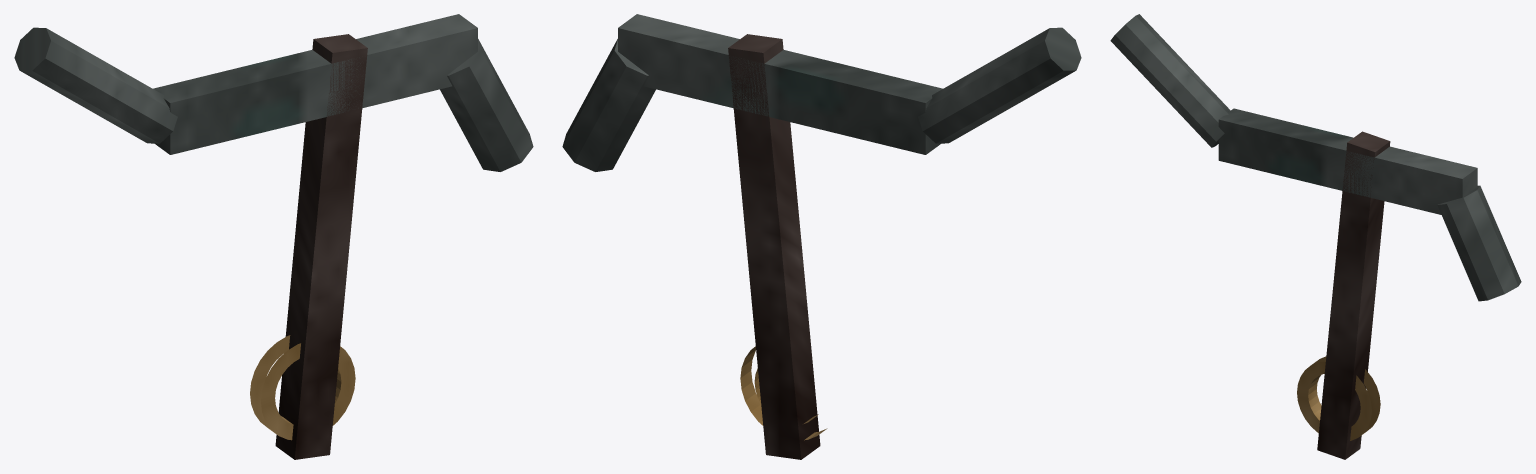
The model's file is 0881_climbing_axe_06.glb.
3 views of the same model, side by side, from view 1: azimuth 30°, elevation 25°; view 2: azimuth 150°, elevation 25°; view 3: azimuth 330°, elevation 25° (orthographic). The views are drawn at different scales.
Parts seen in each view (by area): view 1: iron, wood_dark, brass; view 2: iron, wood_dark, brass; view 3: iron, wood_dark, brass.
Part boxes in pixels (bbox=[...]): iron: bbox=[14, 14, 533, 171]; wood_dark: bbox=[275, 34, 367, 459]; brass: bbox=[250, 335, 355, 440]; iron: bbox=[562, 14, 1081, 171]; wood_dark: bbox=[728, 34, 820, 459]; brass: bbox=[740, 346, 827, 440]; iron: bbox=[1110, 14, 1521, 301]; wood_dark: bbox=[1317, 131, 1390, 459]; brass: bbox=[1297, 356, 1380, 440].
Bounding box in the file's own units: 1.08 × 0.9824 × 0.11.
3 materials, 3 textured.
